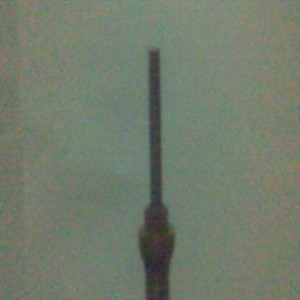obeng: (137, 47, 176, 300)
